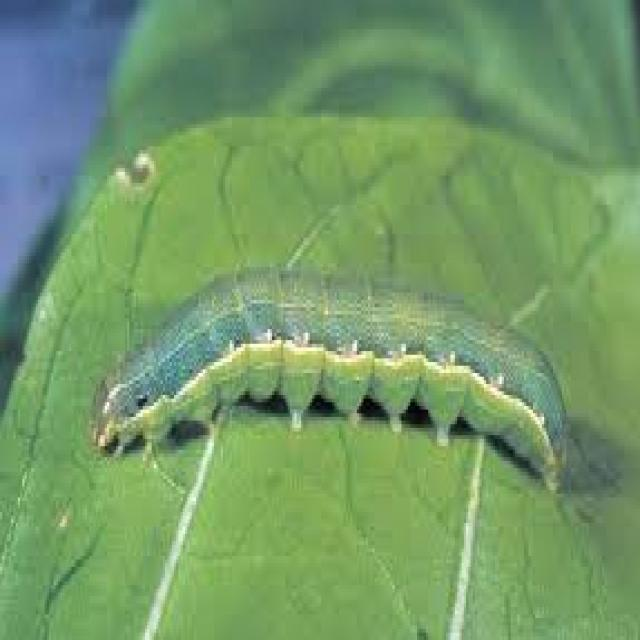Army Worm: (87, 264, 572, 500)
